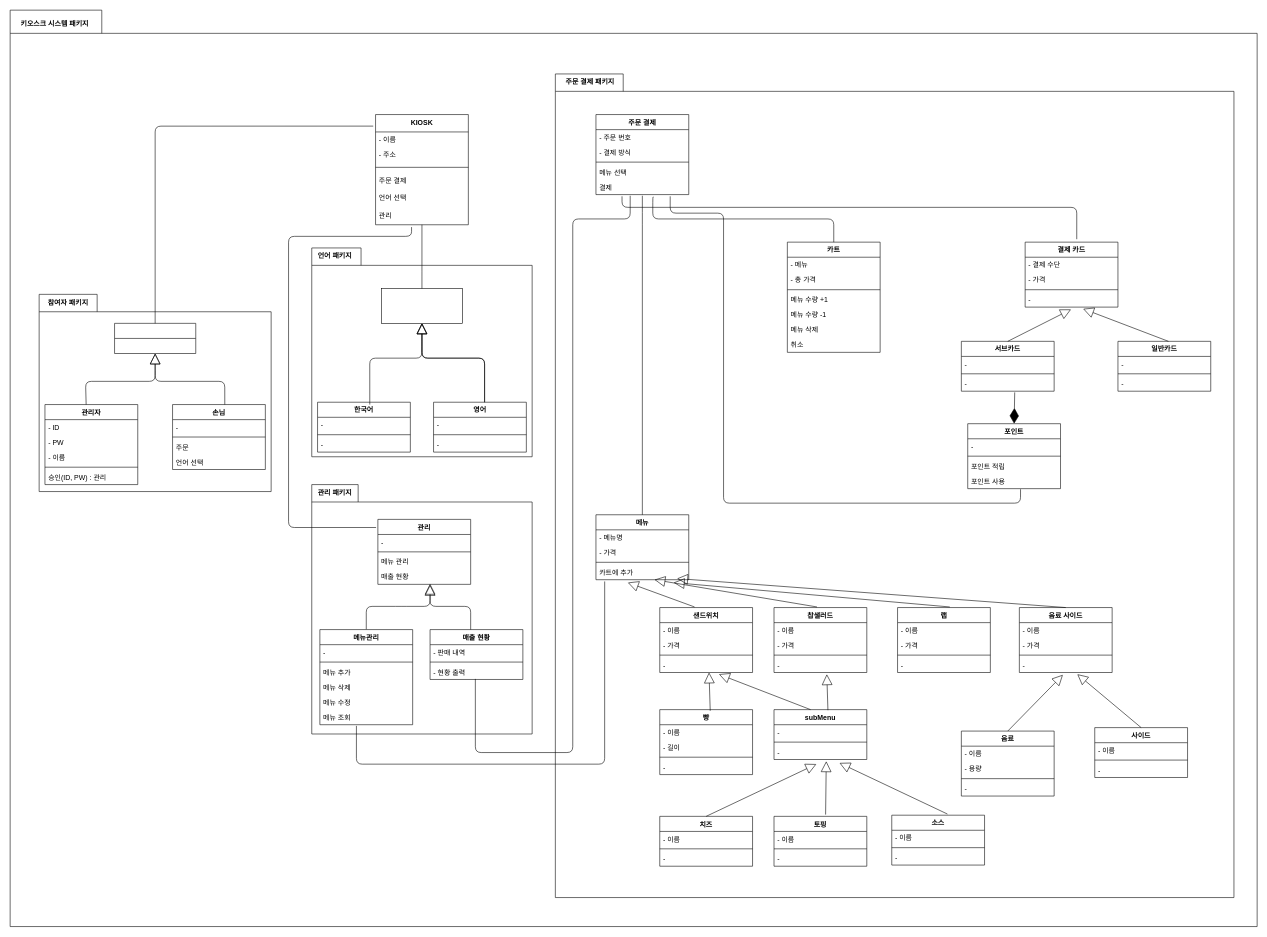
Some shapes in this 1267 by 937 pixel diagram are drawn without their labels. The centre of each missing label's shape, as x and y in pixels:
언어 선택 - 언어명: the point at 422,305
참여자: the point at 155,338
